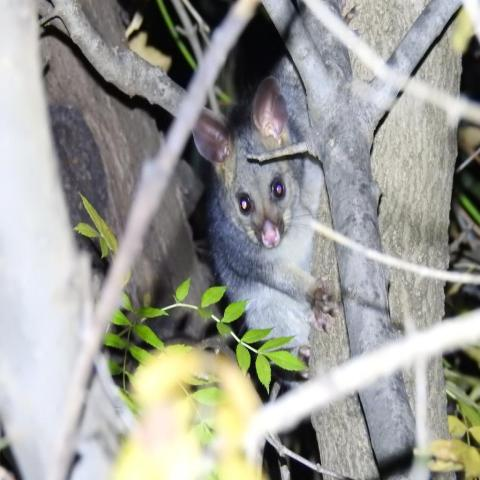small_animal: (190, 74, 339, 374)
